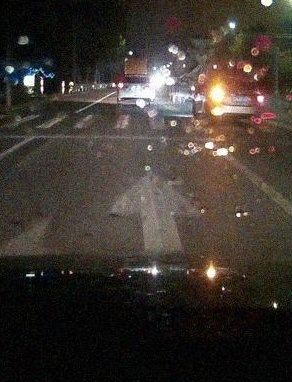L_light: (210, 90, 225, 100), (117, 82, 129, 88)
R_light: (141, 82, 153, 88), (257, 93, 264, 103)
T_light: (232, 73, 245, 77), (132, 75, 140, 78)
night-left: (207, 70, 265, 122)
night-no: (117, 74, 155, 106)
